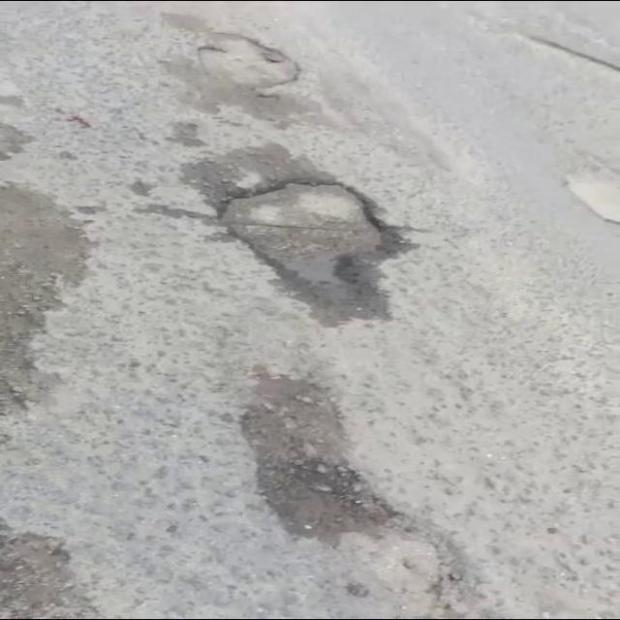lubang: (241, 369, 397, 541), (0, 180, 86, 415), (222, 182, 401, 287), (0, 523, 98, 617), (196, 32, 300, 96), (0, 123, 30, 161)
